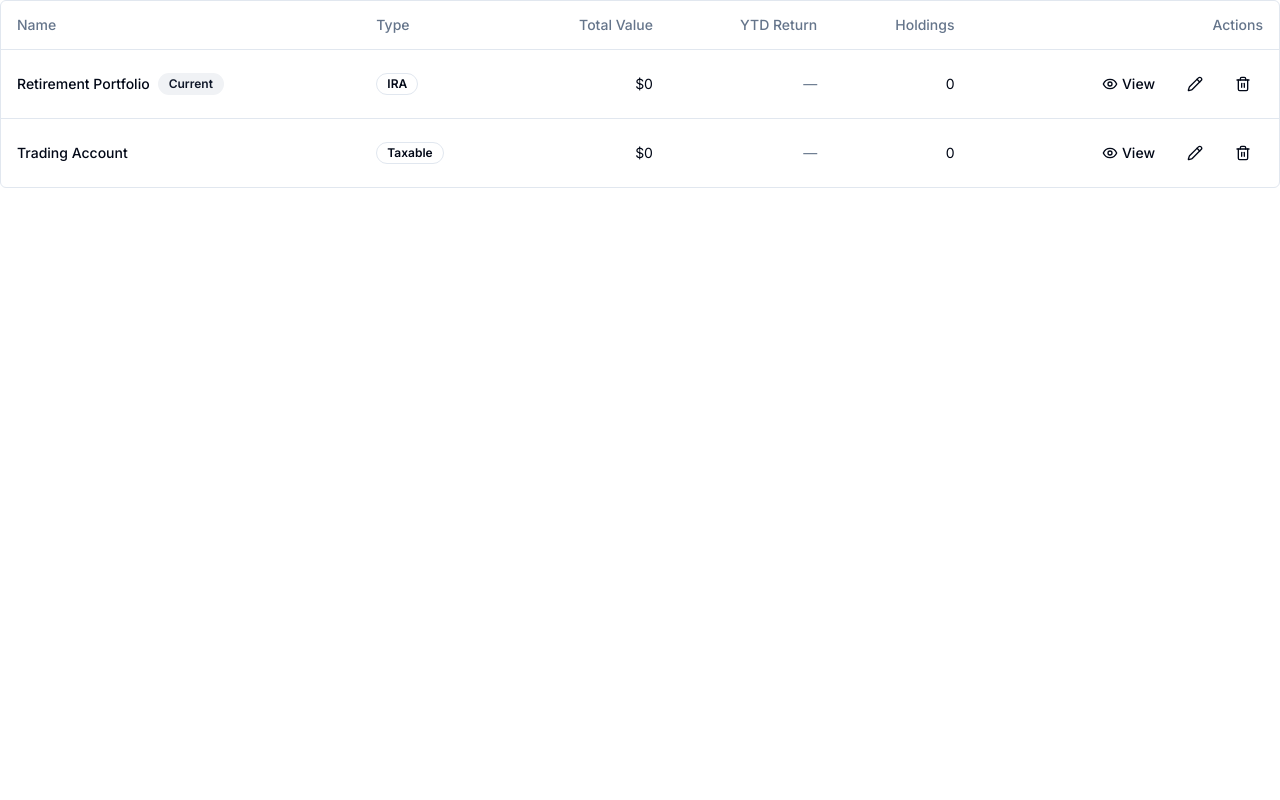
Test case: PortfoliosTable - Edit Functionality › should close dialog after successful update
The width and height of the screenshot is (1280, 800).
Expected: the text "Retirement Portfolio" is shown, [17,74,150,92]
# Open edit dialog
Click the button named "Edit" in the row of "Retirement Portfolio" at coordinates (1195, 84), box [1175,66,1215,102]
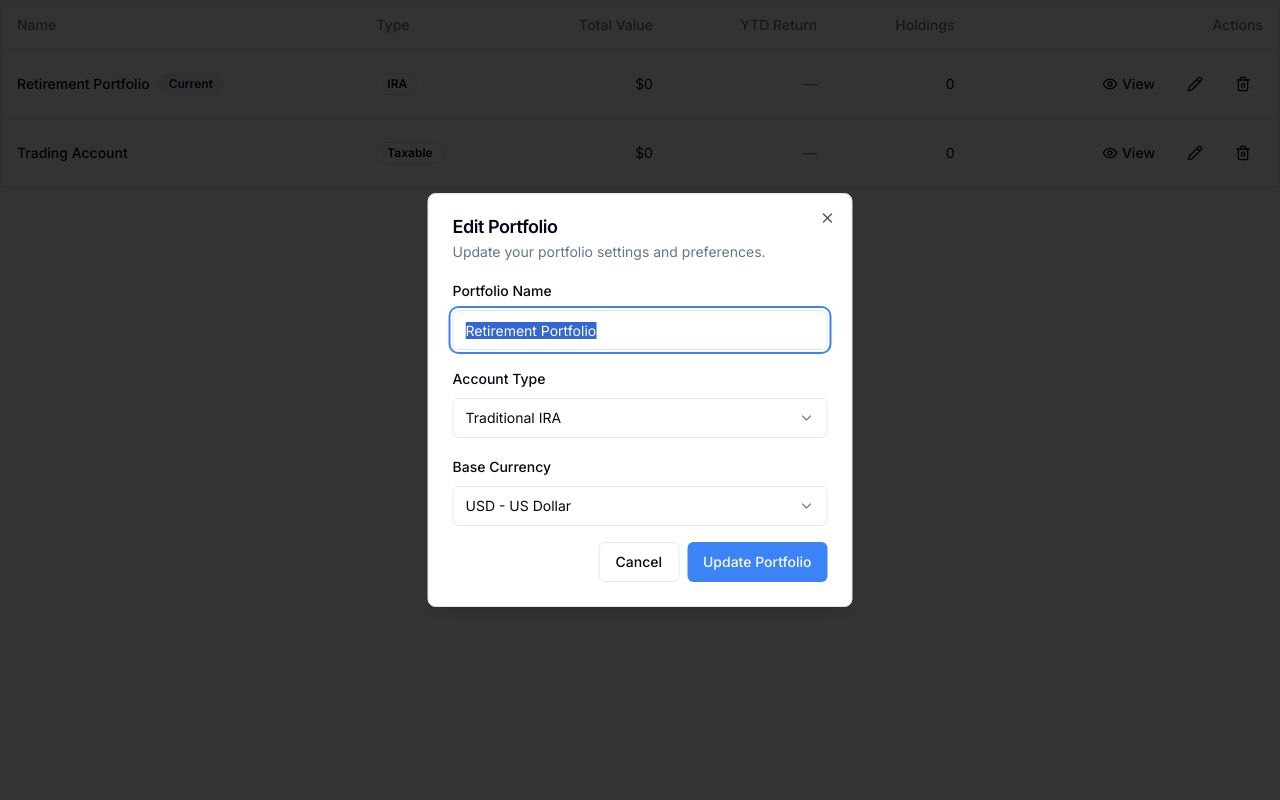
# Update name
Replace the text in the field showing "Retirement Portfolio" with "Updated Portfolio" at coordinates (640, 330), box [452,310,828,350]
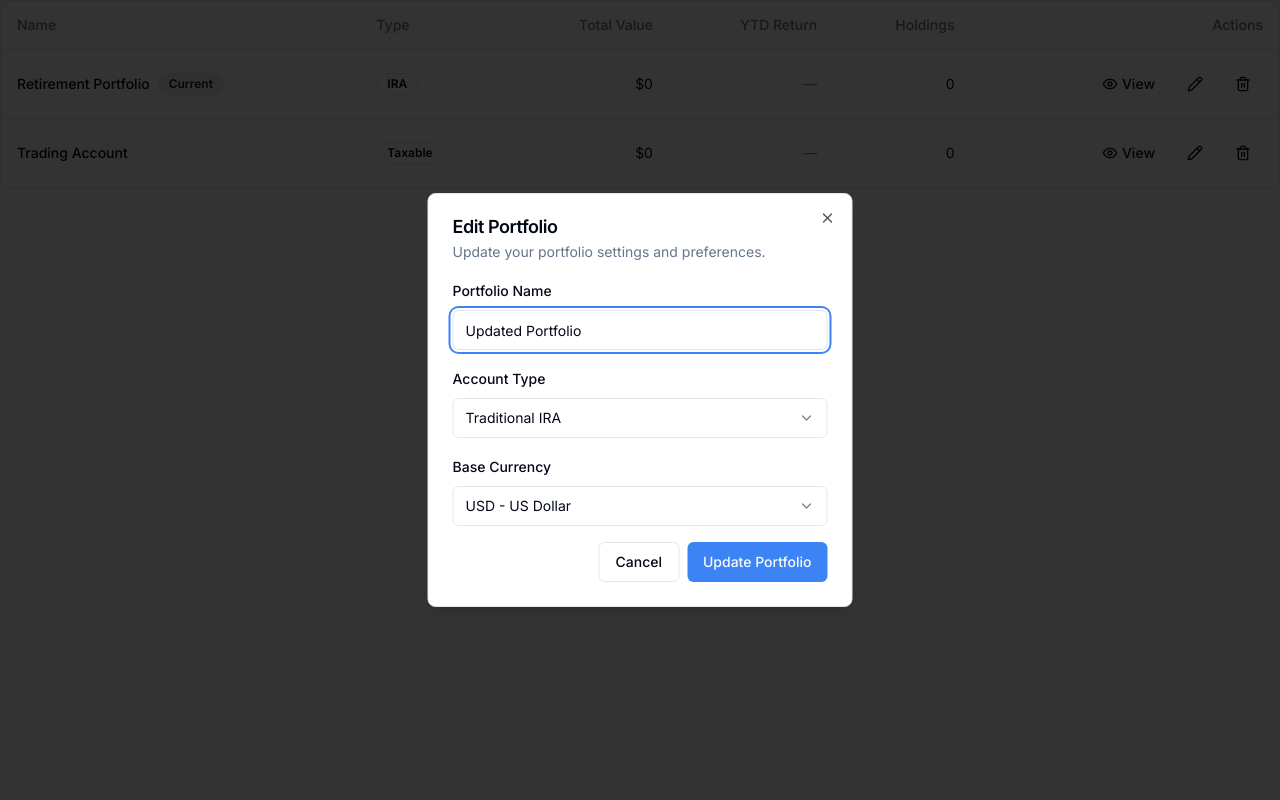
Click the button "Update Portfolio" at coordinates (757, 562), box [687,542,828,582]
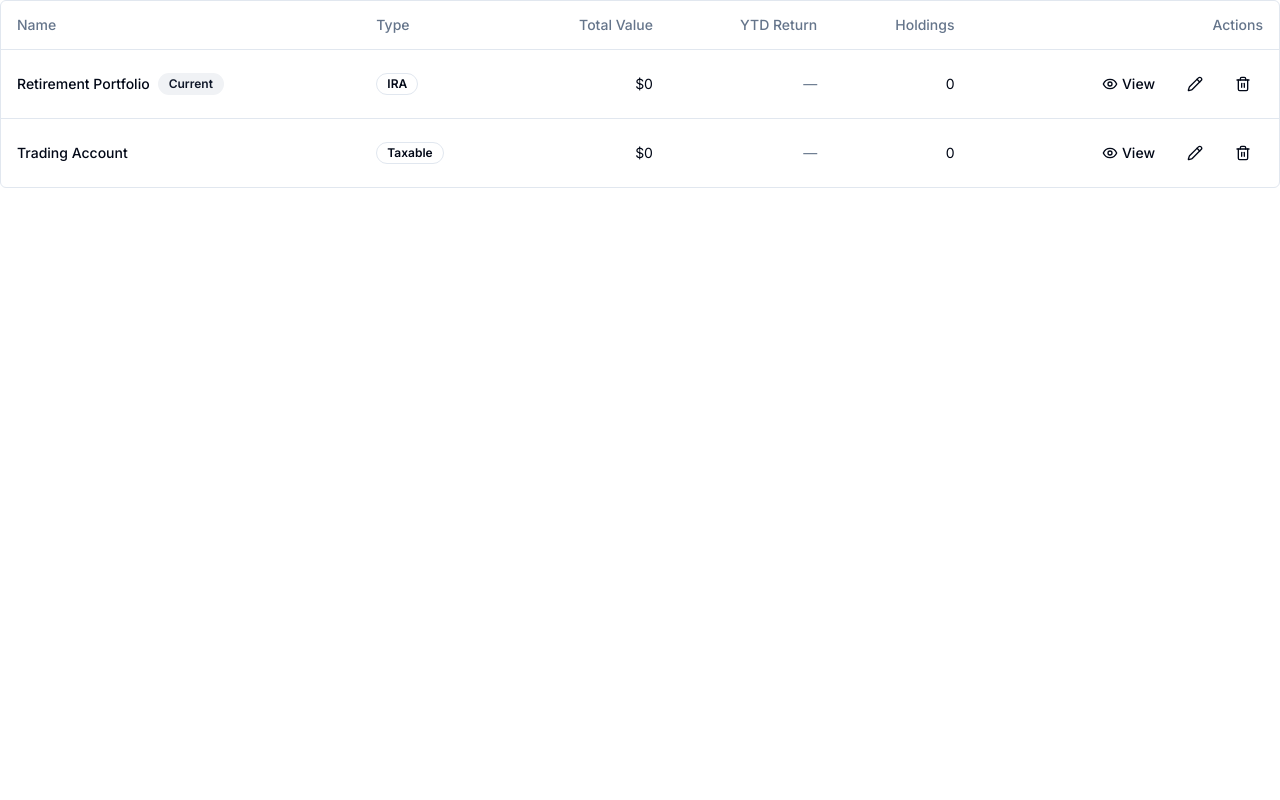
Now the heading "Edit Portfolio" is gone
